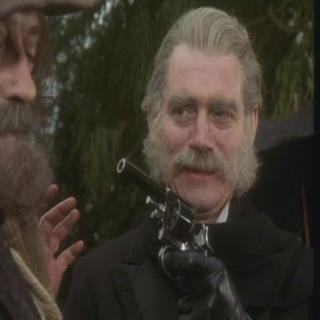gun: (113, 150, 228, 320)
